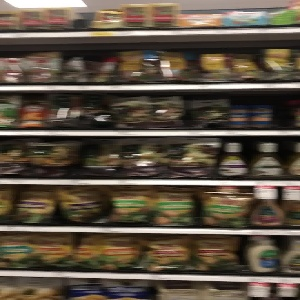void: (273, 87, 296, 131)
